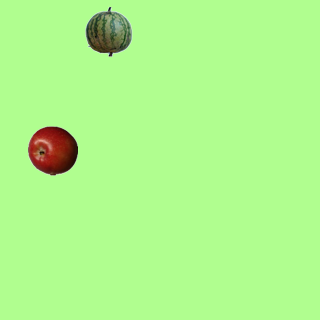Apple Braeburn: (27, 125, 77, 175)
Watermelon: (83, 6, 133, 56)
